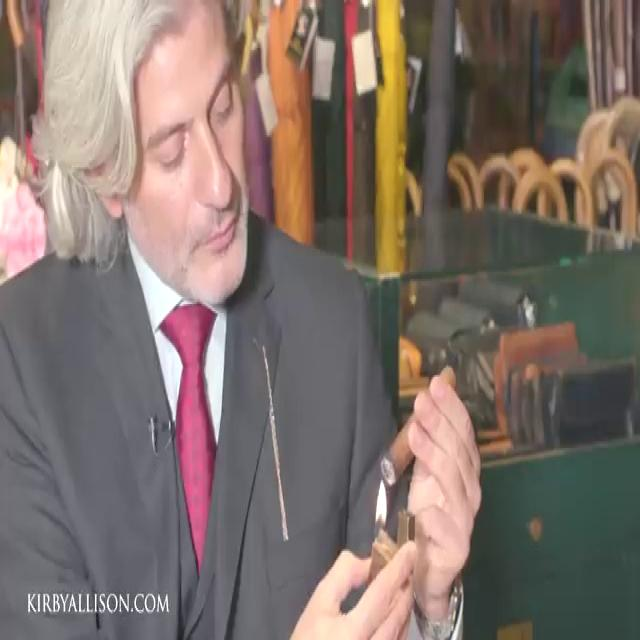Smooking: (369, 357, 461, 513)
